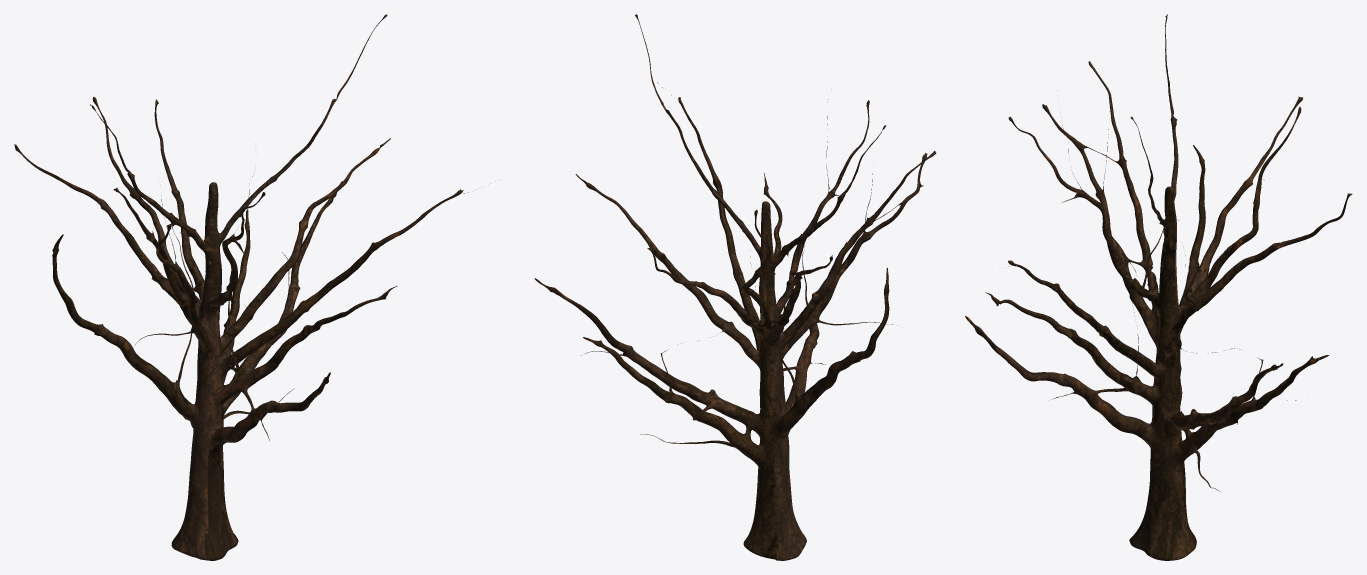
The model's file is Tree_001.obj.
The picture shows the model from 3 angles, left to right: view 1: azimuth 30°, elevation 25°; view 2: azimuth 150°, elevation 25°; view 3: azimuth 270°, elevation 25°; orthographic projection. The views are drawn at different scales.
Parts seen in each view (by area): view 1: Tree_001; view 2: Tree_001; view 3: Tree_001.
Boxes of the visible parts, <box> form: Tree_001: <box>14,14,467,560</box>; Tree_001: <box>534,14,936,560</box>; Tree_001: <box>965,14,1352,560</box>.
Bounding box in the file's own units: 20.36 × 28.03 × 19.28.
1 material, 1 textured.
